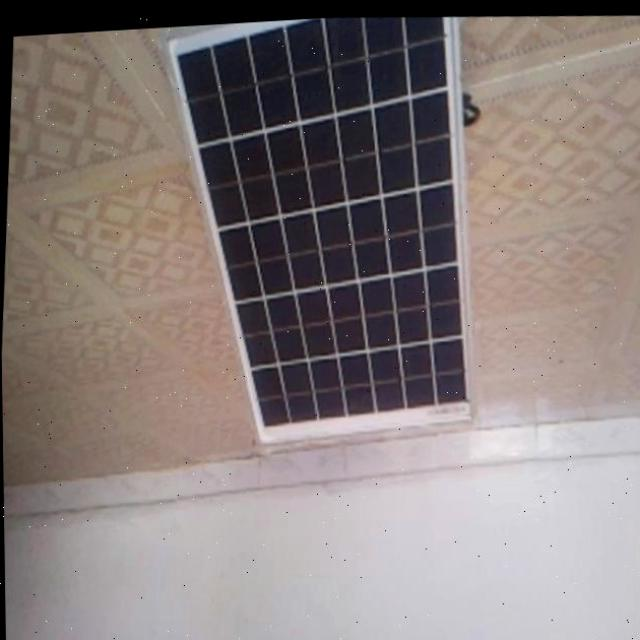Normal Solar Panel: (149, 6, 493, 454)
